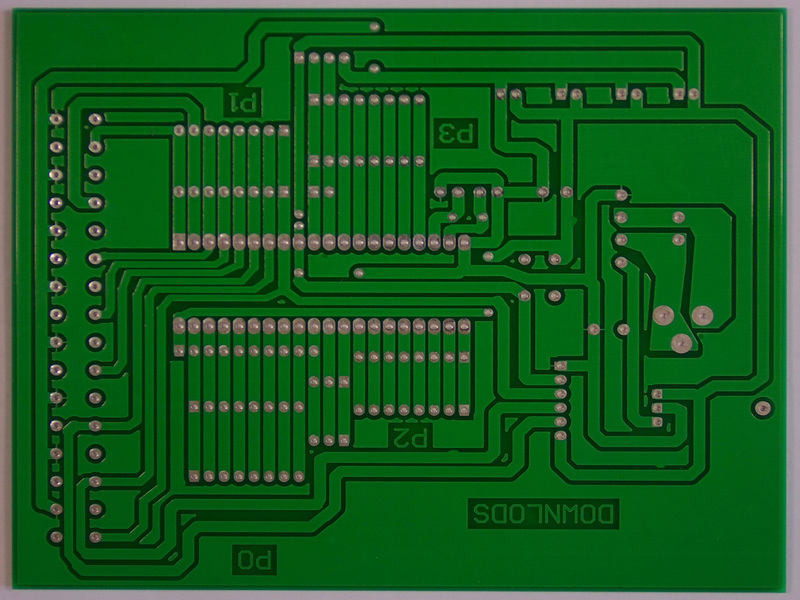spur: (653, 450, 667, 469), (558, 215, 578, 228), (446, 449, 460, 465)
